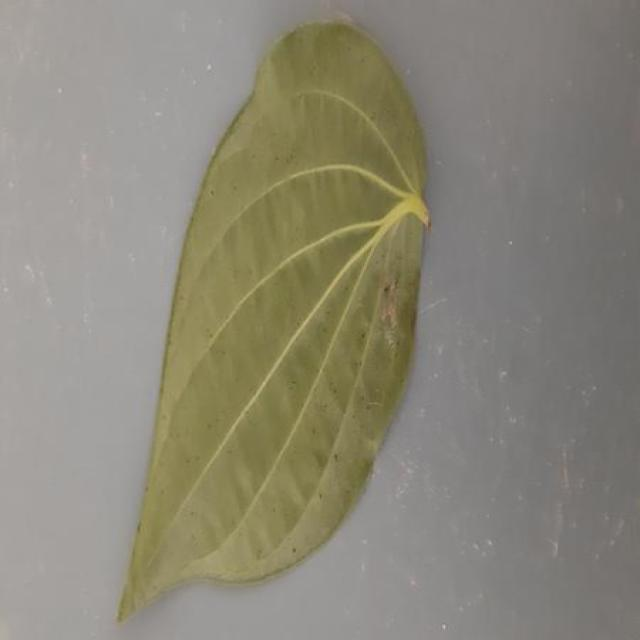betel: (118, 21, 428, 619)
